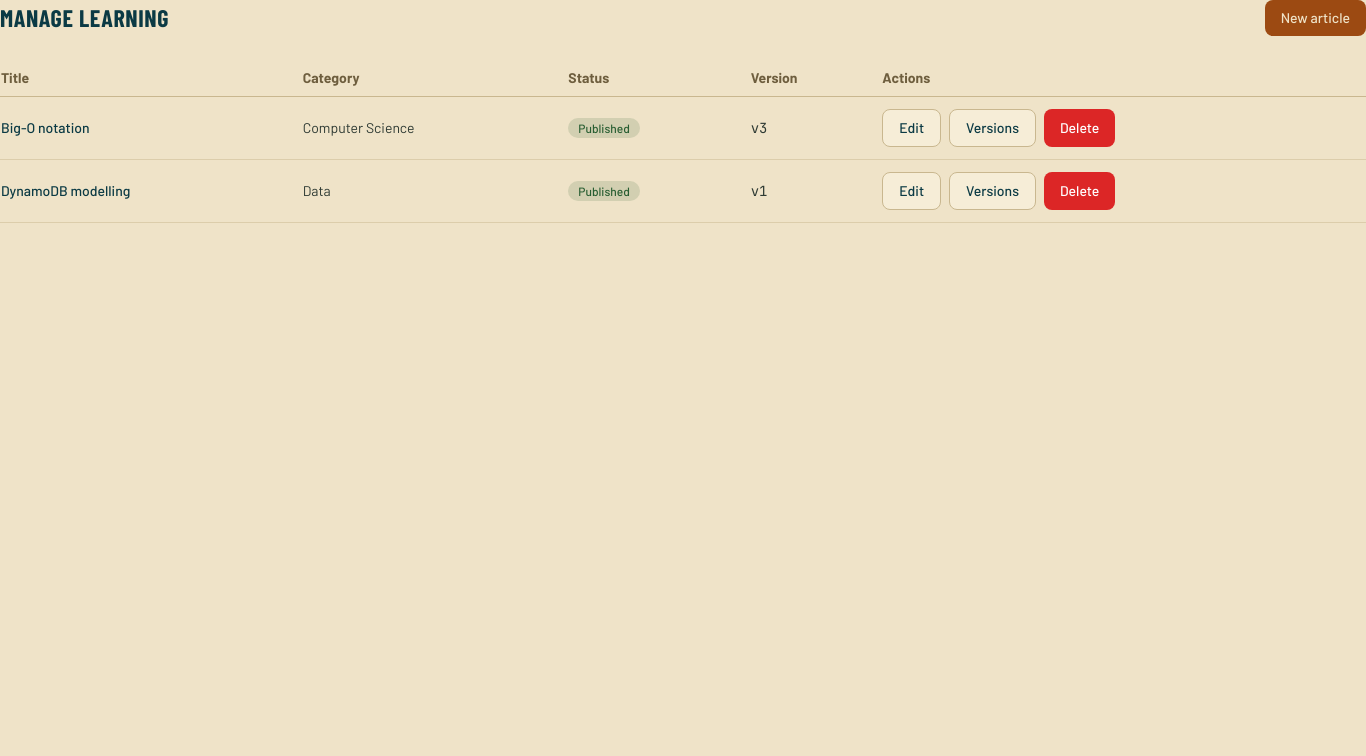
Test: AdminLearning › opens the new-article form
Expected: the text "Big-O notation" is shown, [0,96,302,160]
Click the button "New article": (1315, 18) [1265,0,1365,36]
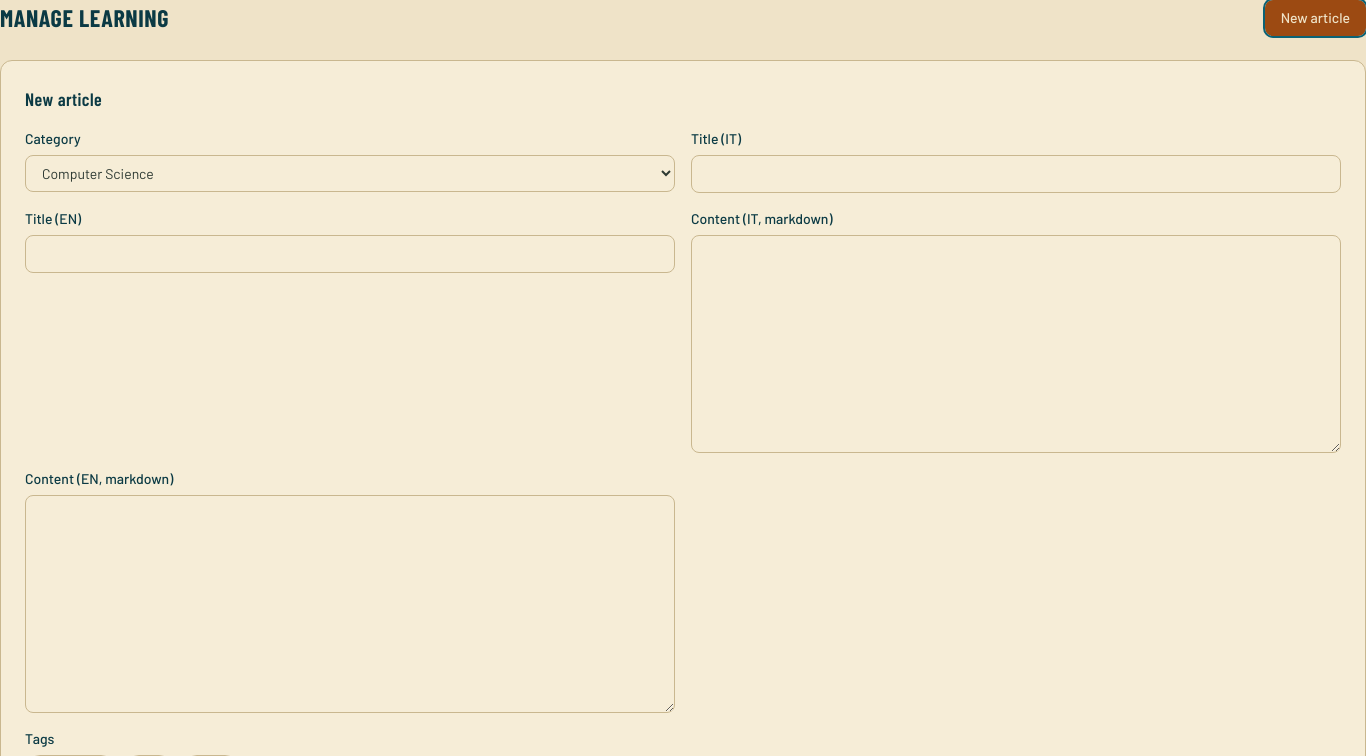
Result: the heading "New article" is shown at [25,88,102,110]
Result: the field labelled "Title (EN)" is shown at [25,235,675,273]
